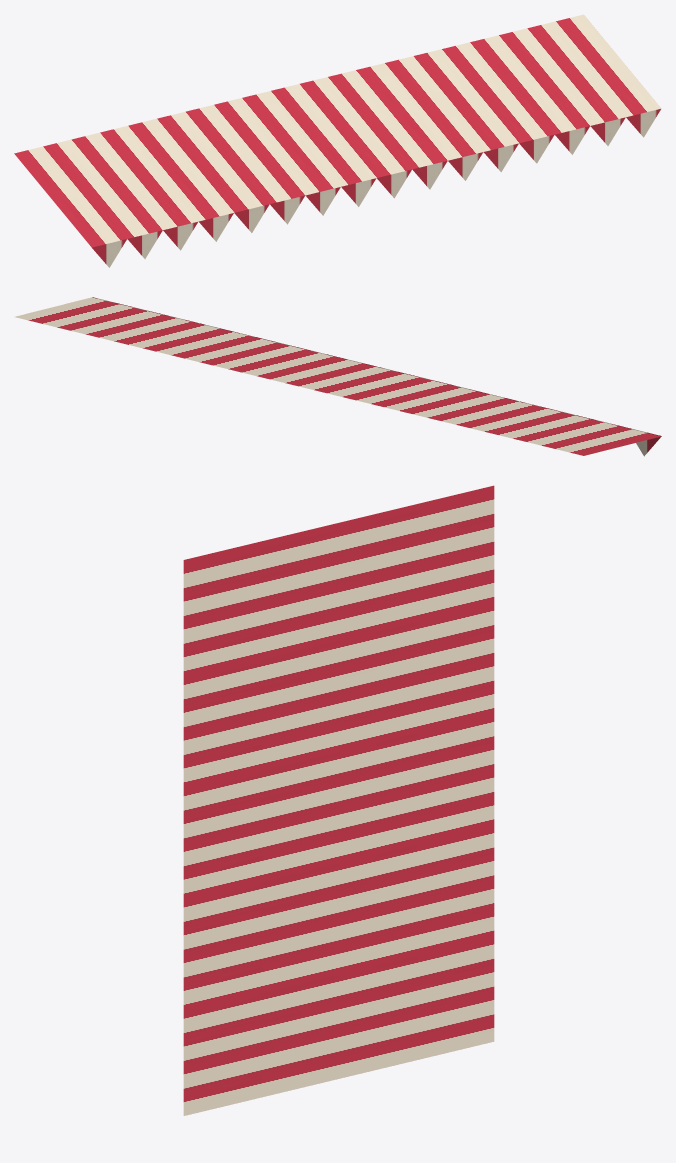
The model's file is awning.glb.
3 renders of one model, top to bottom at view 1: azimuth 30°, elevation 25°; view 2: azimuth 150°, elevation 25°; view 3: azimuth 270°, elevation 25°, orthographic. The views are drawn at different scales.
Visible parts, largest first — view 1: awning_0; view 2: awning_0; view 3: awning_0.
Boxes of the visible parts, box(x1,y1,x2,y2) form: awning_0: box(14, 14, 661, 267); awning_0: box(15, 297, 661, 456); awning_0: box(183, 485, 494, 1115).
Bounding box in the file's own units: 7.2 × 0.75 × 1.71.
1 material, 1 textured.
